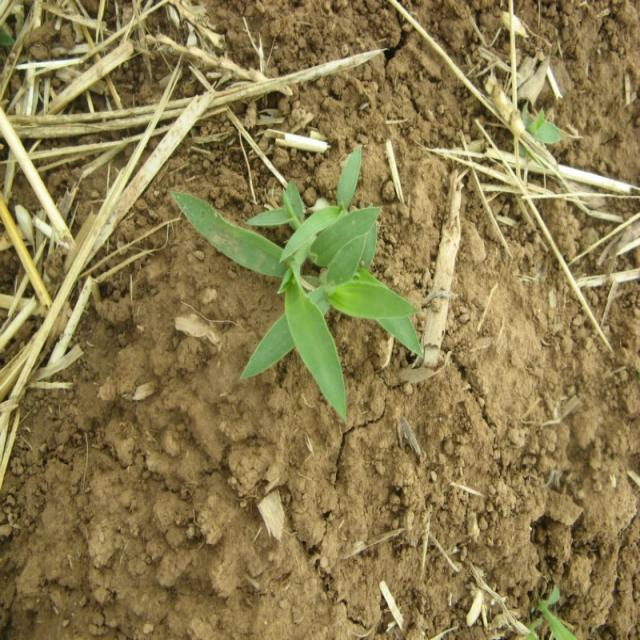bg: (166, 186, 426, 418)
